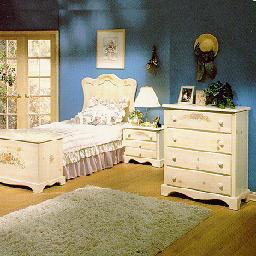Armario: (164, 109, 241, 214)
Cama: (68, 99, 125, 175)
